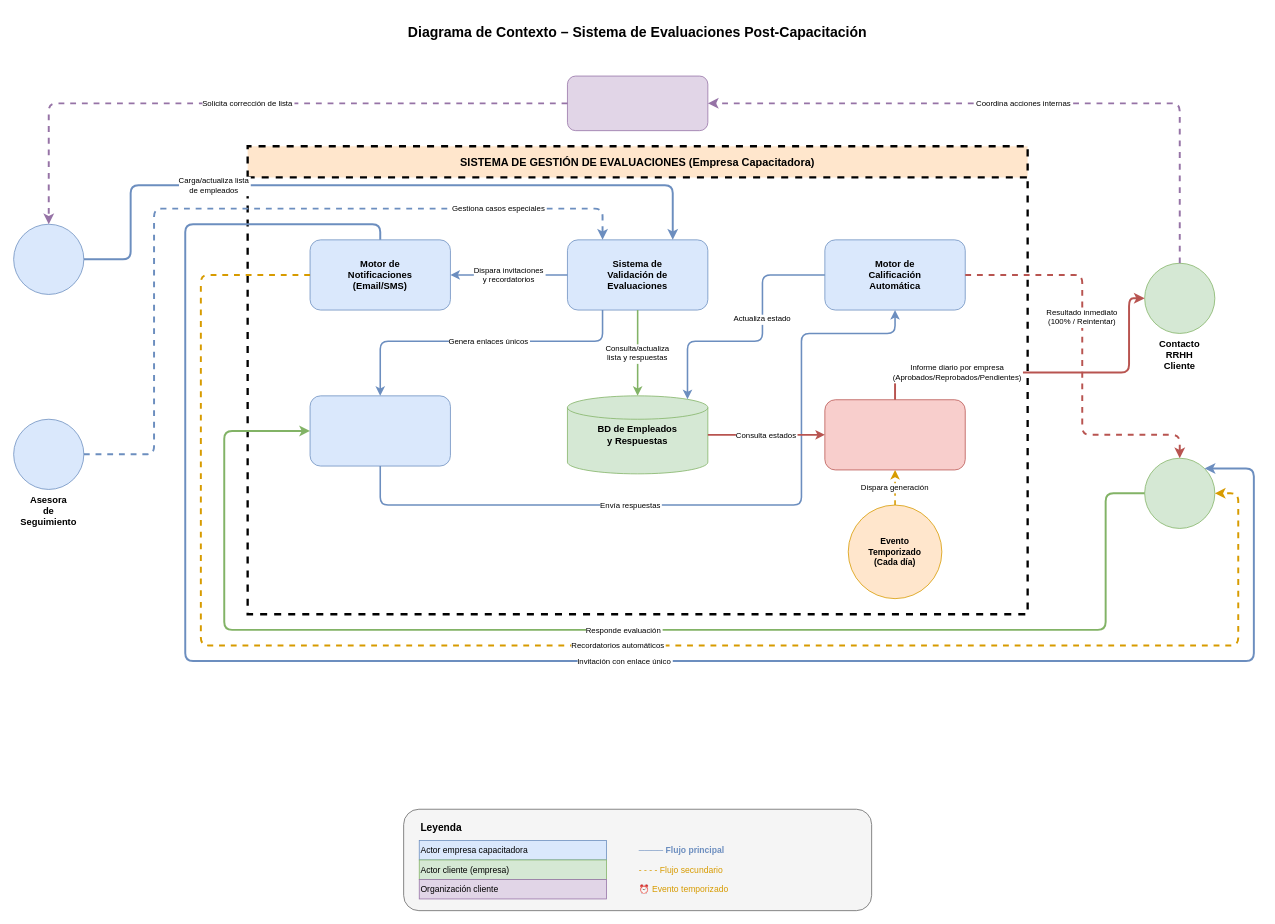
Some shapes in this 1275 by 924 pixel diagram are drawn without their labels. The shapes that lost their labels are listed below. From the top down, each one's box as (x1, y1, x2, y2) in pixels, then its label:
(567, 75, 708, 131): CLIENTE (EMPRESA)
(13, 223, 84, 294): Coordinadora de Capacitaciones
(309, 395, 450, 466): Plataforma de Evaluación (Forms/Quiz)
(824, 399, 965, 470): Generador de Reportes Diarios
(1144, 457, 1215, 528): Empleado (Participante)
